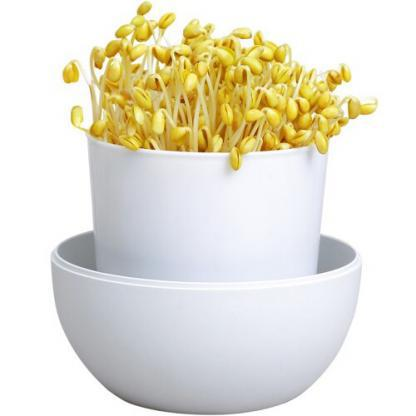bean sprouts: (84, 16, 353, 160)
